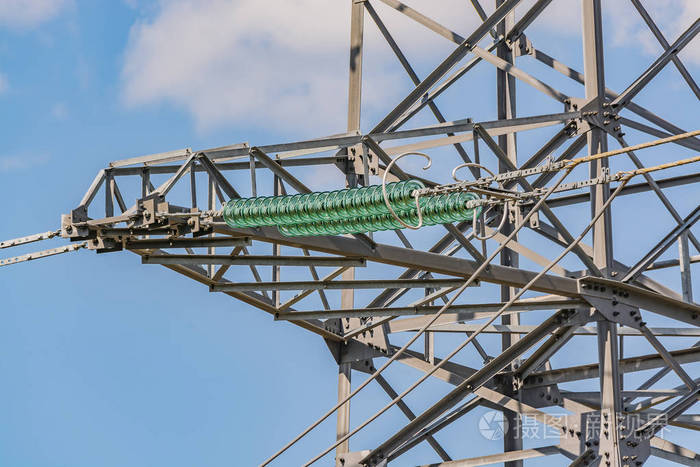insulator: (226, 178, 428, 226), (277, 194, 485, 240)
